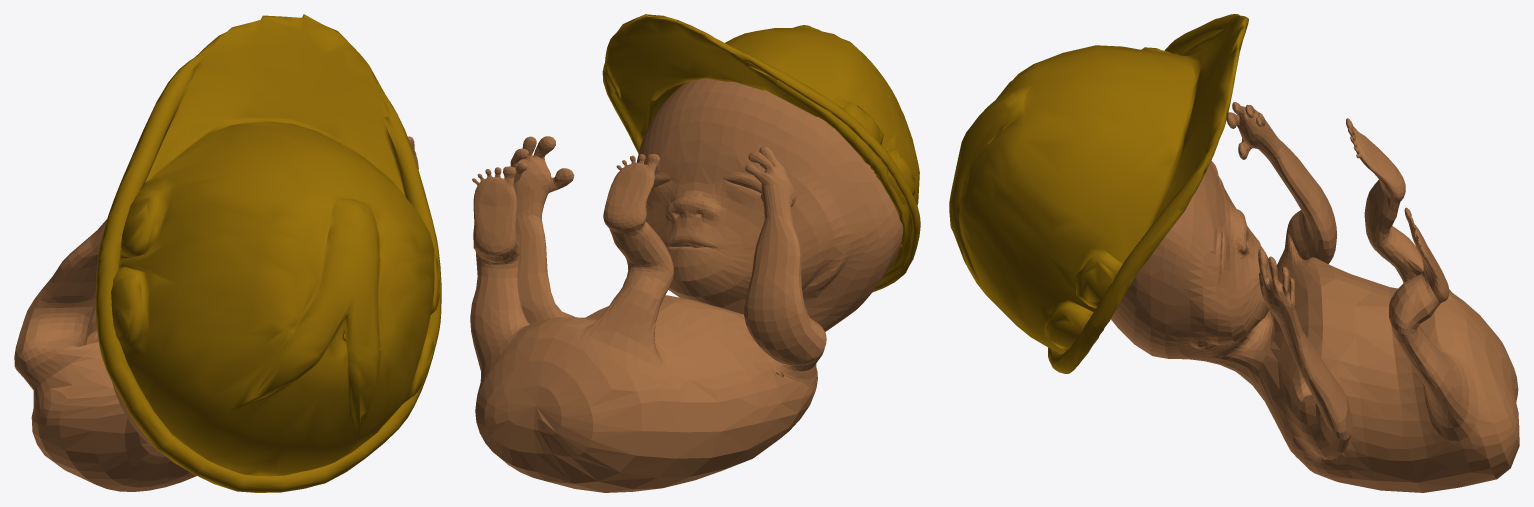
The model's file is feto2.obj.
3 views of the same model, side by side, from view 1: azimuth 30°, elevation 25°; view 2: azimuth 150°, elevation 25°; view 3: azimuth 270°, elevation 25° (orthographic). The views are drawn at different scales.
Visible parts, largest first — view 1: Sphere01, fetus-2-month.000_fetus-2-month.000; view 2: fetus-2-month.000_fetus-2-month.000, Sphere01; view 3: fetus-2-month.000_fetus-2-month.000, Sphere01.
Part boxes in pixels (x1,y1,x2,y2): Sphere01: [95, 14, 441, 492]; fetus-2-month.000_fetus-2-month.000: [14, 136, 418, 491]; fetus-2-month.000_fetus-2-month.000: [470, 78, 903, 492]; Sphere01: [602, 14, 920, 292]; fetus-2-month.000_fetus-2-month.000: [1111, 102, 1519, 492]; Sphere01: [949, 14, 1248, 373].
Size of the model in its own units: 11.25 by 13.12 by 14.8.
